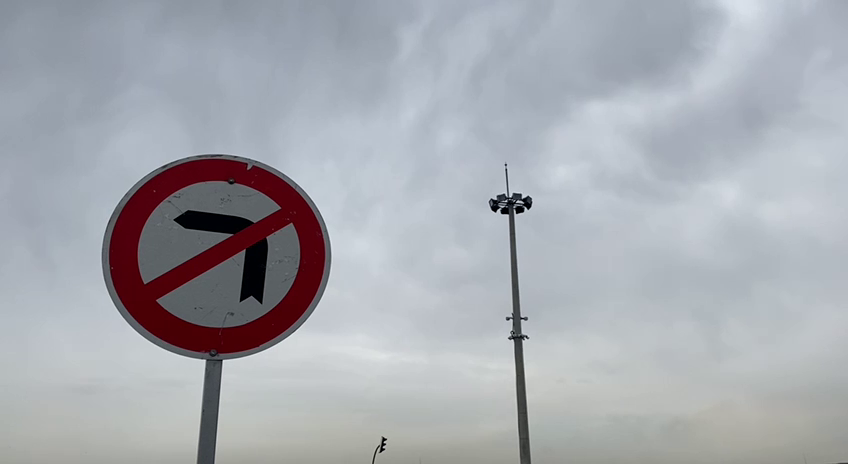noTurnLeft: (95, 144, 336, 367)
